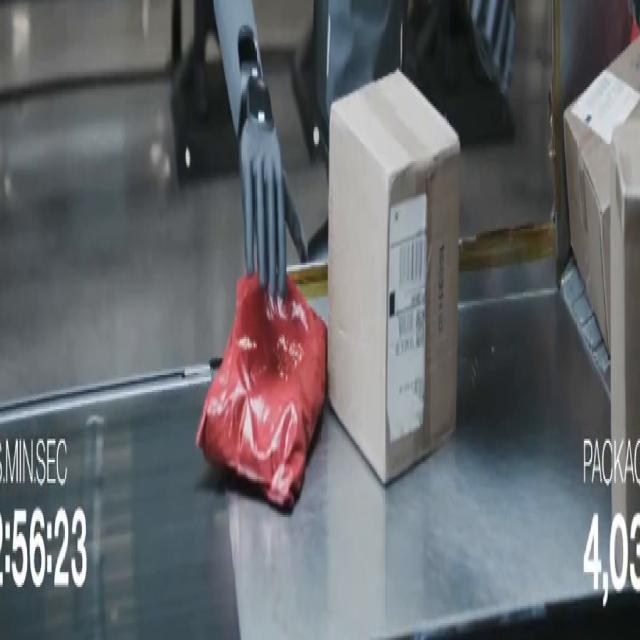package: (328, 73, 460, 483), (197, 274, 327, 510), (564, 41, 639, 349), (611, 121, 639, 531)
